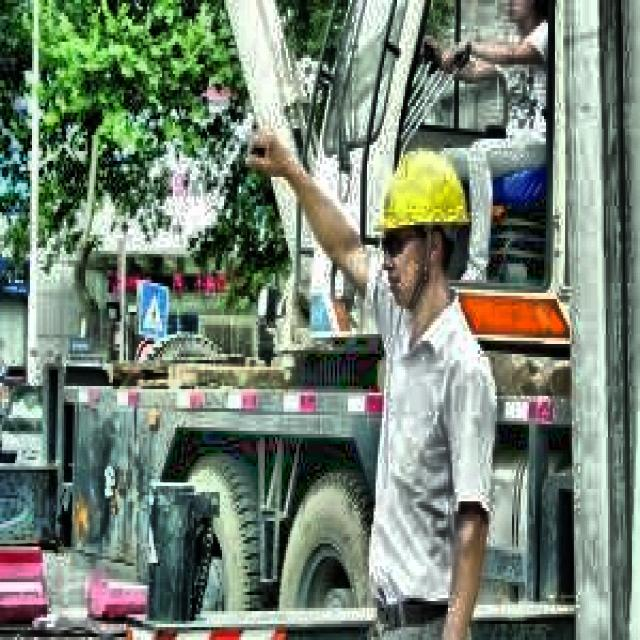helmet: (367, 132, 478, 321)
